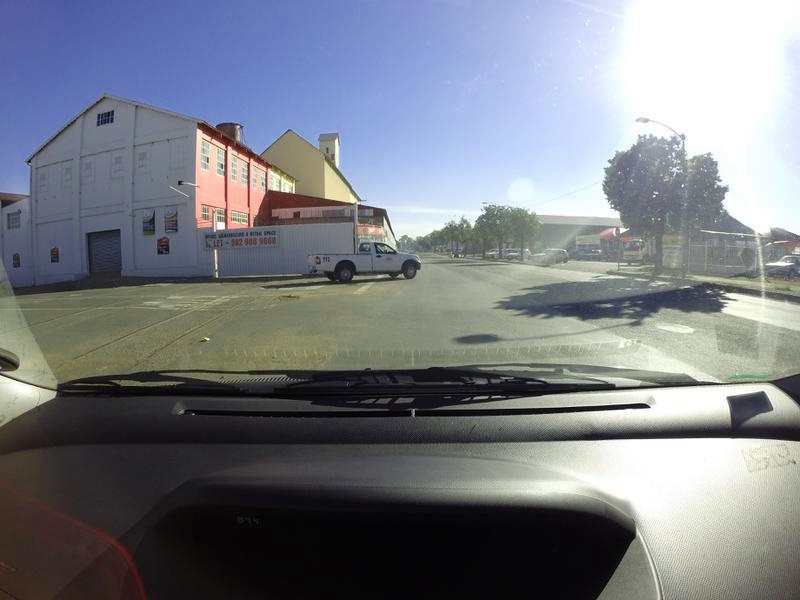pothole: (277, 295, 303, 301)
